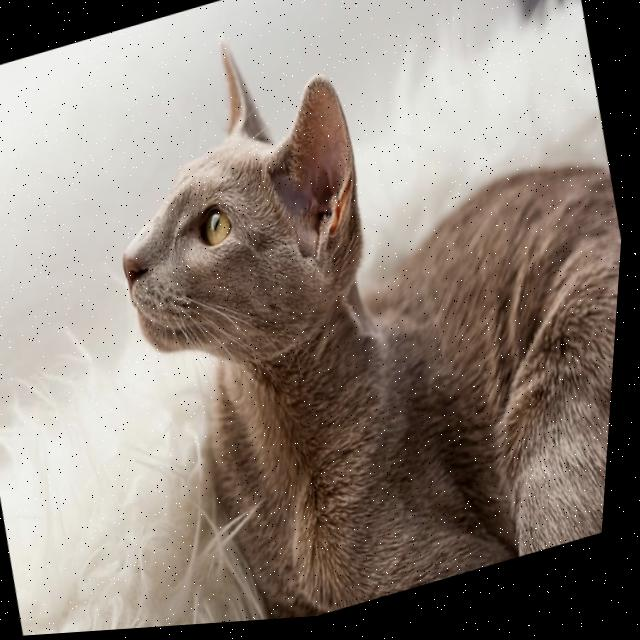Oriental: (55, 0, 640, 635)
